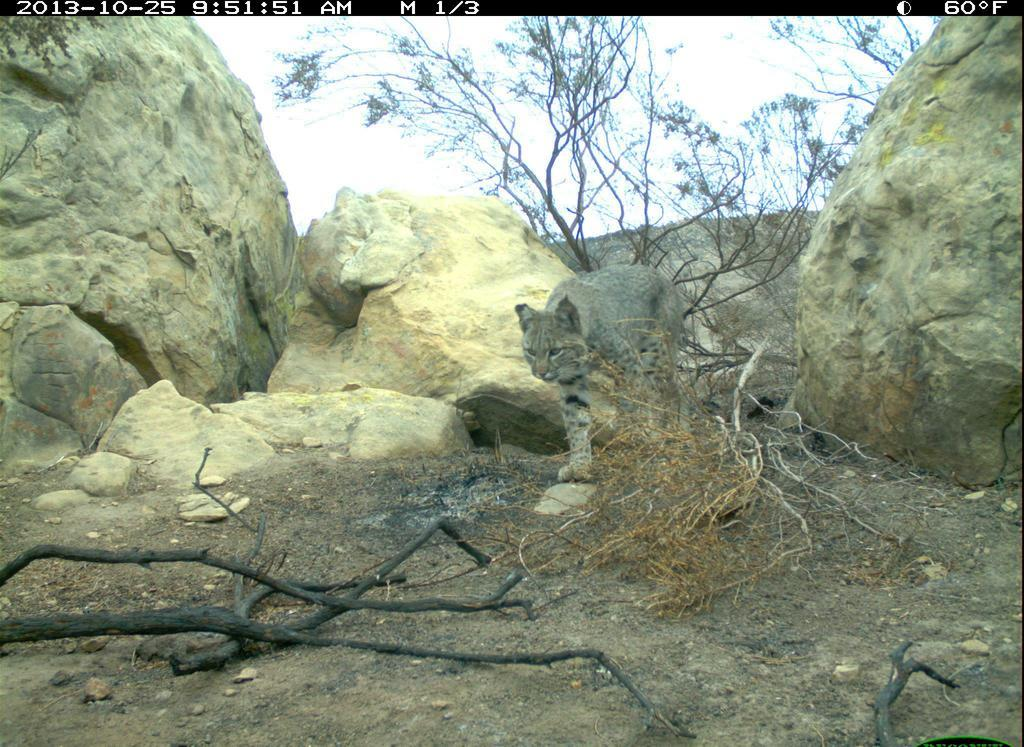bobcat: (511, 263, 722, 491)
